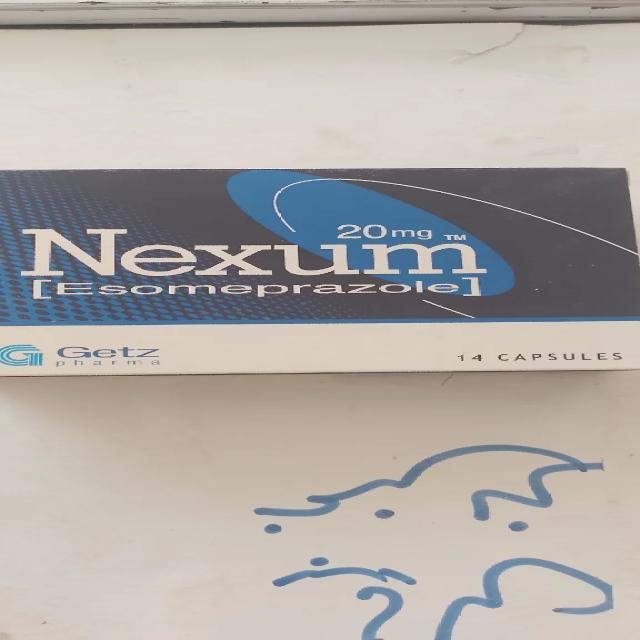drug-name: (12, 225, 488, 277)
